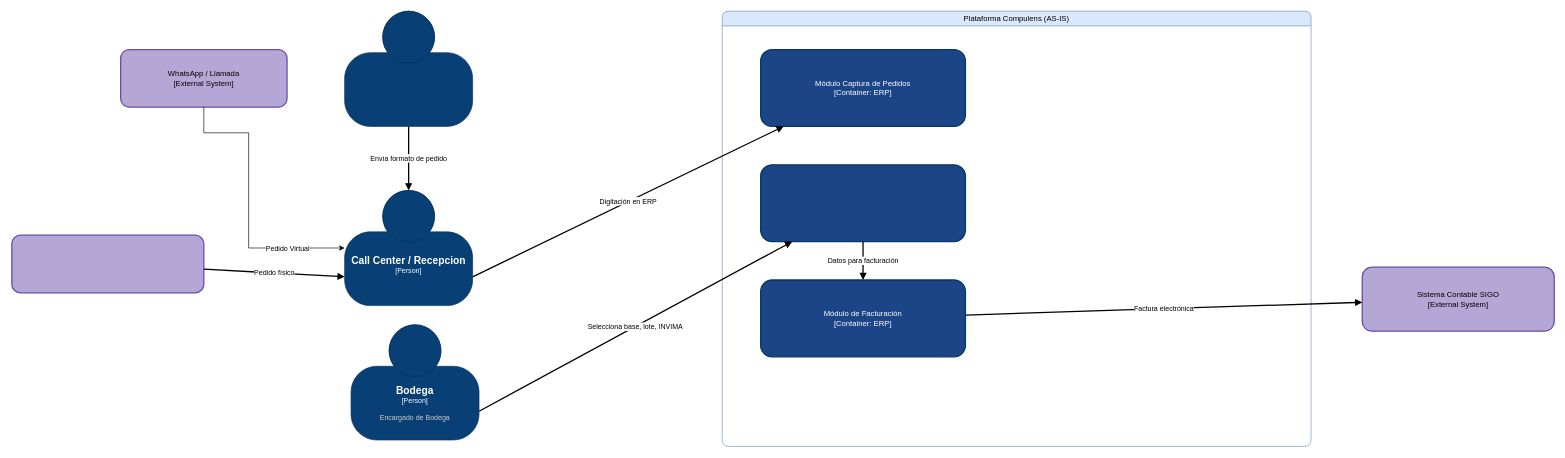
Some shapes in this 1565 by 458 pixel diagram are drawn without their labels. The box of each missing label's shape, as (x1, y1, x2, y2) in pixels:
Cliente [Person] Ópticas (Clientes): (344, 11, 473, 126)
Gestión de Materia Prima [Container: ERP]: (760, 164, 966, 242)
Mensajería / Recepción física [External System]: (11, 234, 204, 293)
